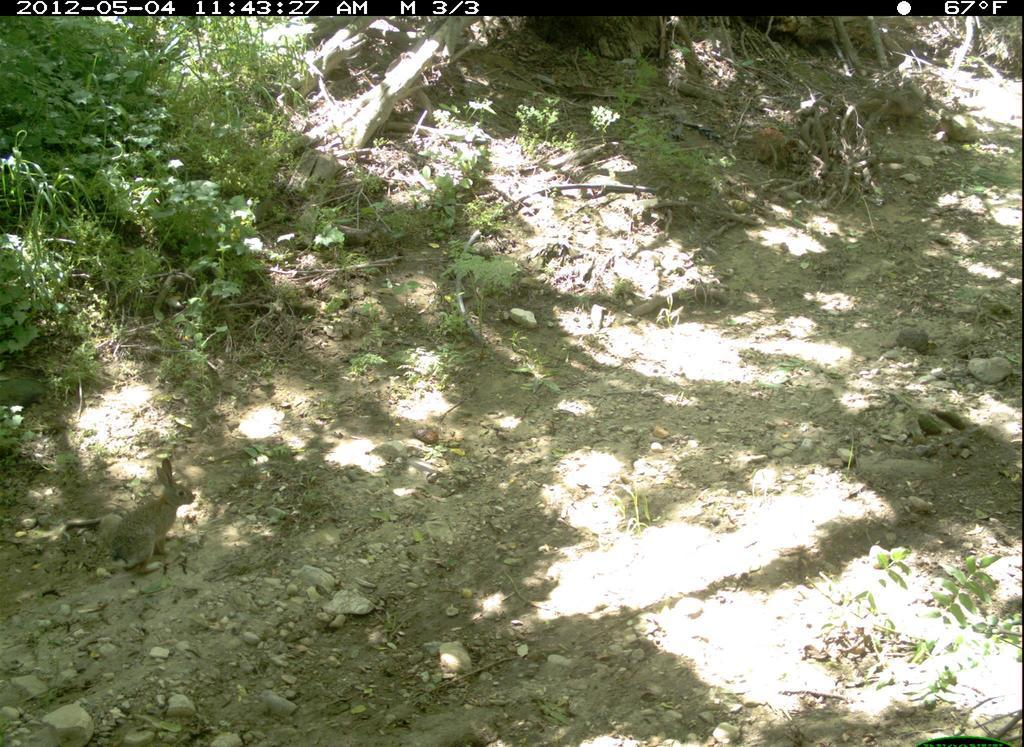rabbit: (85, 450, 200, 580)
